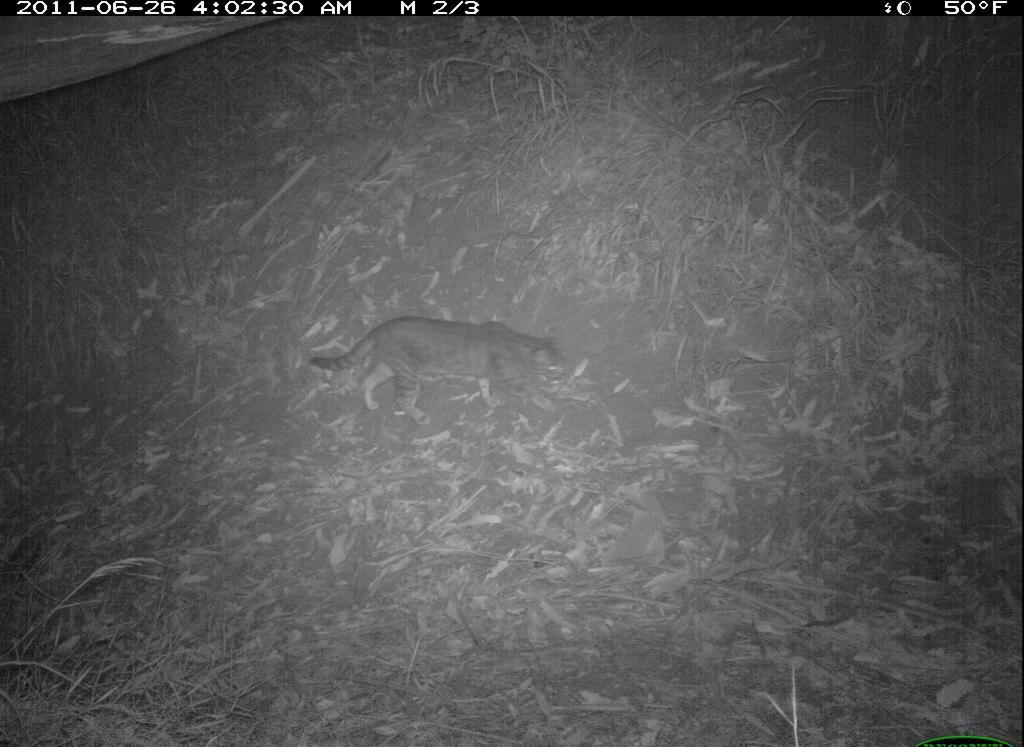cat: (304, 308, 584, 434)
